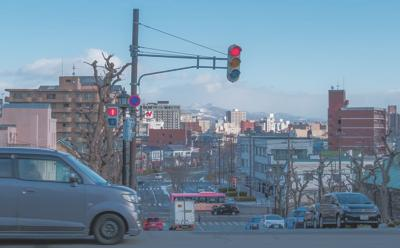International Road Signal Light: (226, 44, 242, 82), (106, 105, 119, 128)
